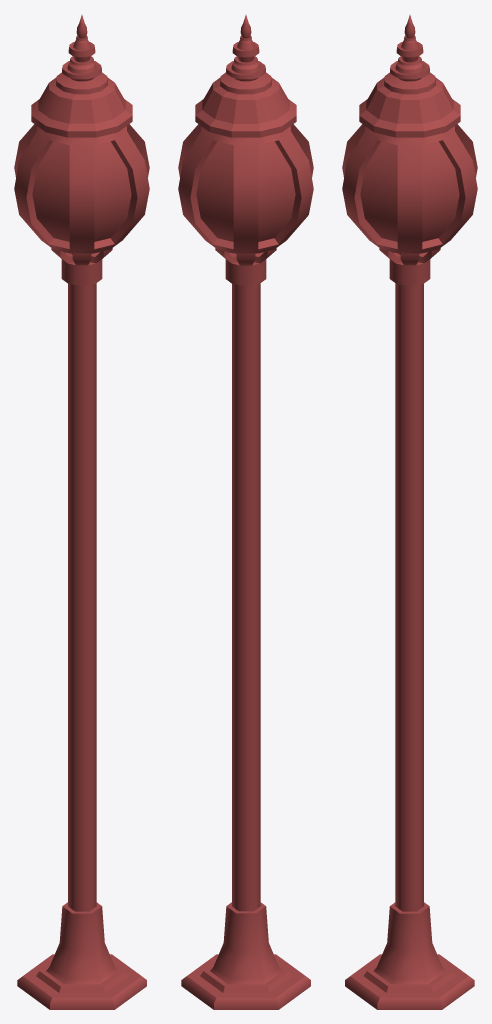
Rendered from StreetLightTall_1.fbx.
3 views of the same model, side by side, from view 1: azimuth 30°, elevation 25°; view 2: azimuth 150°, elevation 25°; view 3: azimuth 330°, elevation 25° (orthographic).
Parts seen in each view (by area): view 1: StreetLightTALL_1; view 2: StreetLightTALL_1; view 3: StreetLightTALL_1.
Boxes of the visible parts, x1,y1,x2,y2 form: StreetLightTALL_1: [14, 15, 149, 1009]; StreetLightTALL_1: [178, 15, 313, 1009]; StreetLightTALL_1: [342, 15, 477, 1009].
Size of the model in its own units: 36.67 by 276 by 34.9.
